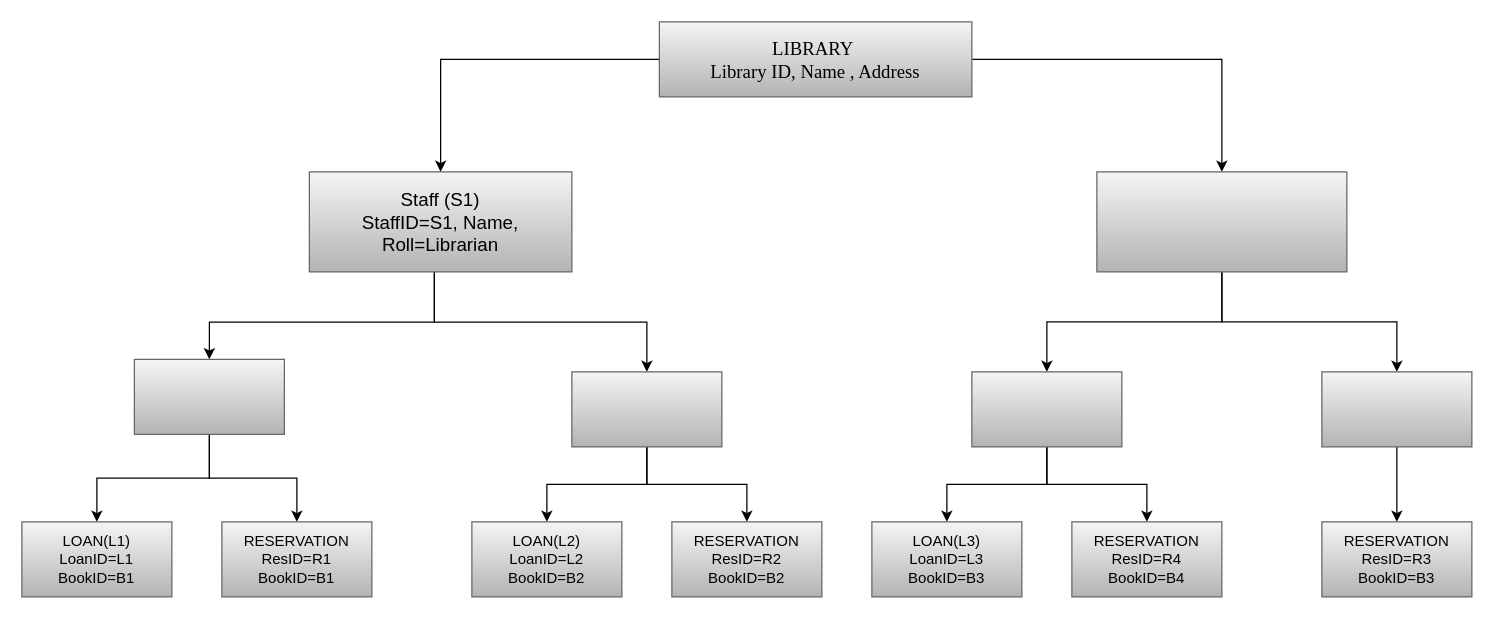
Image size: 1494x619. Some labels were removed from this diagram. Each missing label, with the centre of its shape:
"MEMBER (M1) MemberID=M1 Name=Aarav" belongs at point (208, 396).
"MEMBER(M2) MEMBERID=M2 Name= Aanya" belongs at point (646, 409).
"MEMBER(M3) MemberID=M3 Name= Anvi" belongs at point (1046, 409).
"MEMBER(M4) MemberID=M4 Name= Khushi" belongs at point (1396, 409).
"Staff(S2) StaffID=S2, Name, Roll=Clerk" belongs at point (1221, 221).
